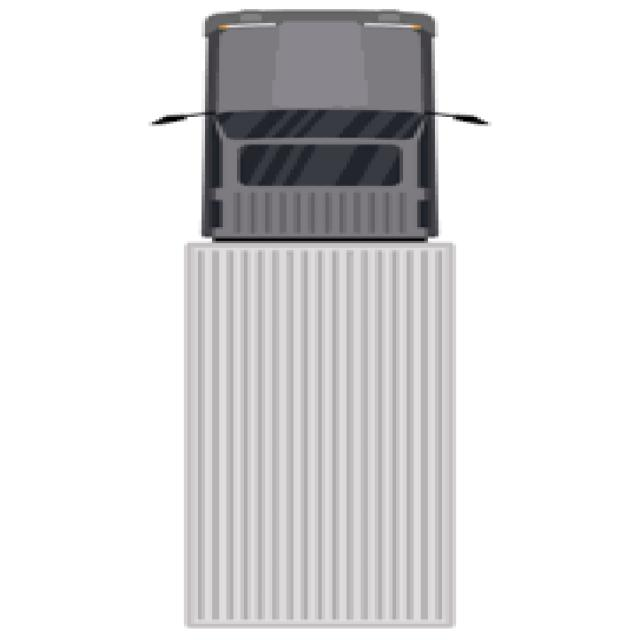truck: (177, 5, 466, 632)
